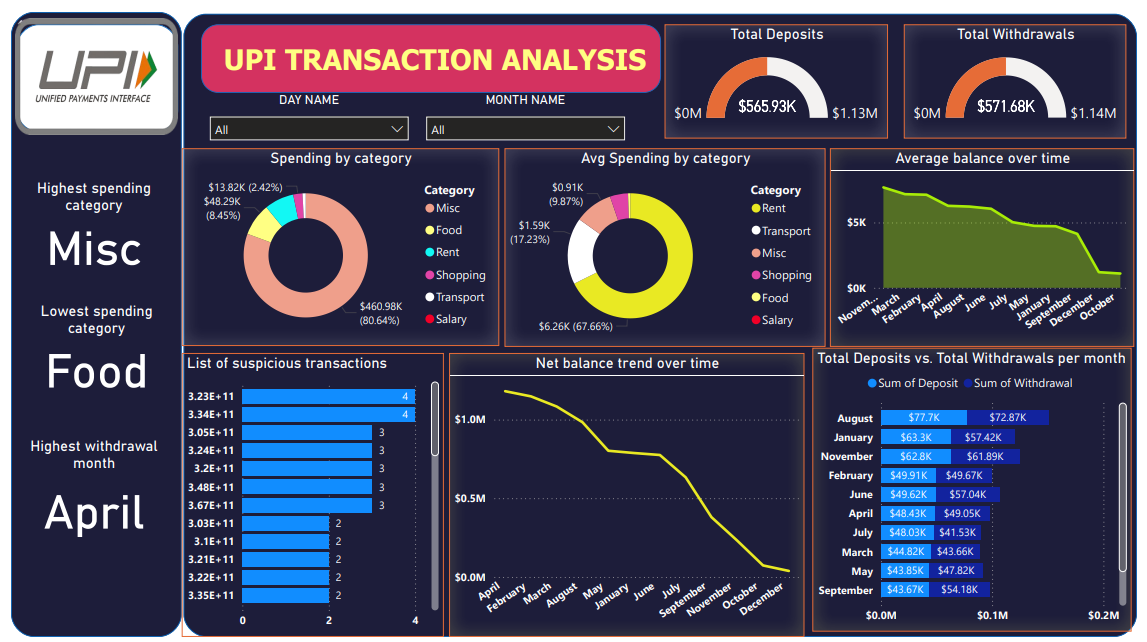

The page's visual inventory and layout, read from the dashboard file:
{"tool":"powerbi","page":{"name":"Page 1","canvas":[1280,720],"ordinal":0},"visuals":[{"type":"shape","box":[195.7,11,1084.7,709.2],"z":0},{"type":"shape","box":[0,8.6,194.4,711.7],"z":1000},{"type":"barChart","title":"Total Deposits vs. Total Withdrawals per month","fields":{"Category":["MyTransaction.Month Name"],"Y":["Sum(MyTransaction.Deposit)","Sum(MyTransaction.Withdrawal)"]},"box":[911,391.3,363.2,322.8],"z":2000},{"type":"lineChart","title":"Net balance trend over time","fields":{"Y":["Sum(MyTransaction.Balance)"],"Category":["MyTransaction.Month Name"]},"box":[497.7,397.4,404.8,322.8],"z":3000},{"type":"donutChart","title":"Spending by category","fields":{"Category":["MyTransaction.Category"],"Y":["Sum(MyTransaction.Withdrawal)"]},"box":[194.4,163.9,360.7,225],"z":4000},{"type":"areaChart","title":"Average balance over time","fields":{"Category":["MyTransaction.Month Name"],"Y":["Avg(MyTransaction.Balance)"]},"box":[930.6,163.9,346.1,226.2],"z":5000},{"type":"donutChart","title":"Avg Spending by category","fields":{"Category":["MyTransaction.Category"],"Y":["Avg(MyTransaction.Withdrawal)"]},"box":[561.3,163.9,364.4,226.2],"z":6000},{"type":"barChart","title":"List of suspicious transactions","fields":{"Category":["MyTransaction.RefNo"],"Y":["MyTransaction.Overdrawn Transactions"]},"box":[194.4,397.4,297.1,322.8],"z":7000},{"type":"card","title":"Highest spending category ","fields":{"Values":["Min(MyTransaction.Category)"]},"box":[8.8,199.3,171.5,105.7],"z":8000},{"type":"card","title":"Lowest spending category ","fields":{"Values":["Min(MyTransaction.Category)"]},"box":[12.2,338.7,171.2,105.2],"z":9000},{"type":"card","title":"Highest withdrawal month","fields":{"Values":["Min(MyTransaction.Month Name)"]},"box":[8.6,492.8,171.2,118.6],"z":10000},{"type":"gauge","title":"Total Withdrawals","fields":{"Y":["Sum(MyTransaction.Withdrawal)"]},"box":[1015,23.2,253.1,129.6],"z":11000},{"type":"gauge","title":"Total Deposits","fields":{"Y":["Sum(MyTransaction.Deposit)"]},"box":[743.5,23.2,253.1,129.6],"z":12000},{"type":"shape","box":[6.1,23.2,183.4,122.3],"z":13000},{"type":"image","box":[0,11,194.4,141.8],"z":14000},{"type":"shape","box":[216.4,23.2,522.1,78.3],"z":14001},{"type":"textbox","box":[237.2,37.9,501.4,63.6],"z":14002},{"type":"slicer","title":"DAY NAME","fields":{"Values":["MyTransaction.Day Name"]},"box":[216.4,101.5,245.8,53.8],"z":14003},{"type":"slicer","title":"MONTH NAME ","fields":{"Values":["MyTransaction.Month Name"]},"box":[462.2,101.5,245.8,53.8],"z":14004}]}

Visuals, with their boxes in screenshot pixels (x1, y1, x2, y2), scaled from the page's 1280x720 canvas onto the 1147x642 screenshot:
shape: bbox=(175, 10, 1146, 641)
shape: bbox=(0, 8, 174, 641)
"Total Deposits vs. Total Withdrawals per month" barChart: bbox=(816, 349, 1142, 637)
"Net balance trend over time" lineChart: bbox=(446, 354, 809, 641)
"Spending by category" donutChart: bbox=(174, 146, 497, 347)
"Average balance over time" areaChart: bbox=(834, 146, 1144, 348)
"Avg Spending by category" donutChart: bbox=(503, 146, 830, 348)
"List of suspicious transactions" barChart: bbox=(174, 354, 440, 641)
"Highest spending category " card: bbox=(8, 178, 162, 272)
"Lowest spending category " card: bbox=(11, 302, 164, 396)
"Highest withdrawal month" card: bbox=(8, 439, 161, 545)
"Total Withdrawals" gauge: bbox=(910, 21, 1136, 136)
"Total Deposits" gauge: bbox=(666, 21, 893, 136)
shape: bbox=(5, 21, 170, 130)
image: bbox=(0, 10, 174, 136)
shape: bbox=(194, 21, 662, 91)
textbox: bbox=(213, 34, 662, 91)
"DAY NAME" slicer: bbox=(194, 91, 414, 138)
"MONTH NAME " slicer: bbox=(414, 91, 634, 138)
